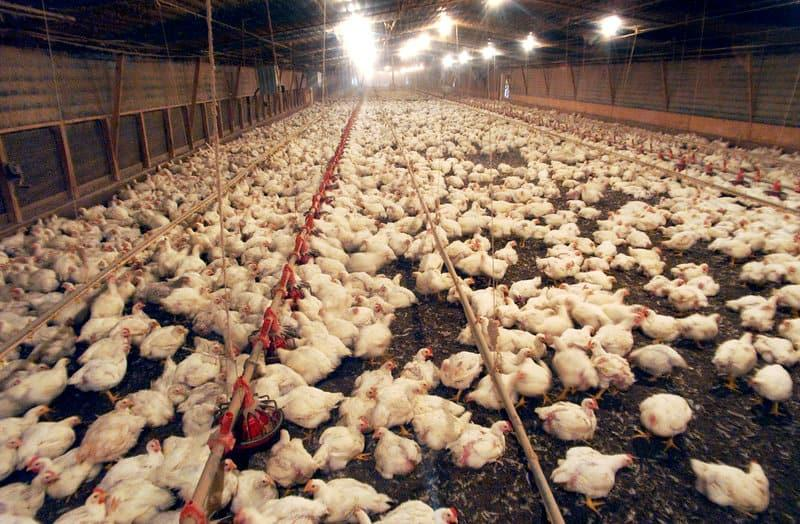chicken: (689, 452, 772, 516), (81, 396, 143, 460), (304, 478, 390, 522), (556, 448, 633, 497), (537, 396, 602, 443), (453, 419, 511, 466), (16, 359, 71, 406), (23, 413, 77, 460), (372, 428, 424, 476), (320, 415, 367, 464), (266, 431, 314, 478), (714, 332, 756, 384), (79, 345, 129, 388), (640, 395, 690, 437), (632, 342, 693, 376), (751, 363, 796, 407), (642, 302, 682, 343), (441, 350, 484, 388), (144, 323, 188, 360), (684, 311, 723, 339)
